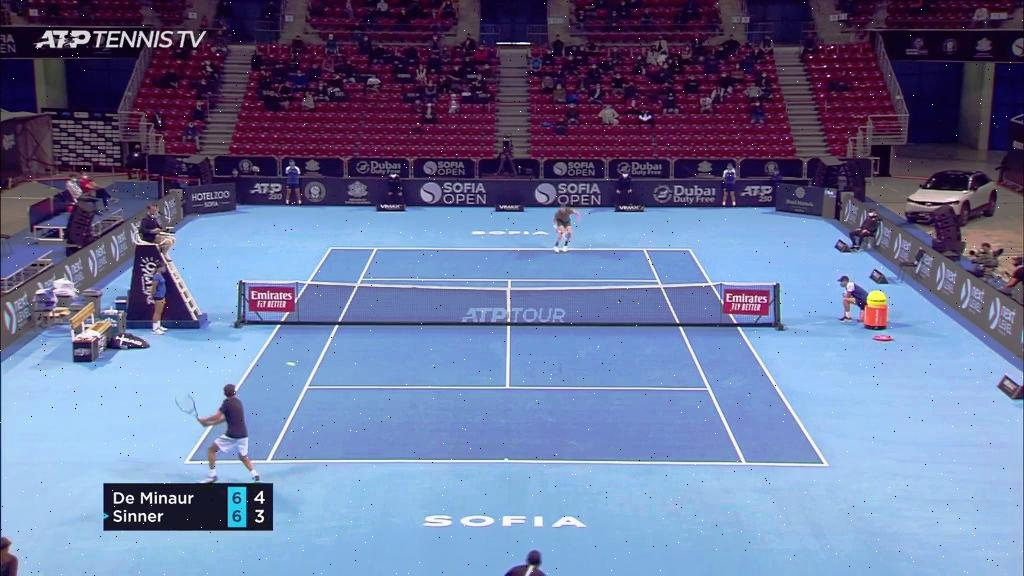tennis-court: (184, 248, 830, 466)
